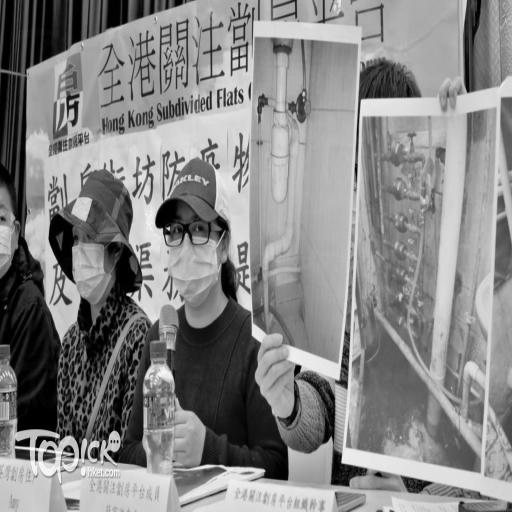mask: (156, 157, 236, 319), (64, 171, 132, 313), (2, 152, 26, 286)
